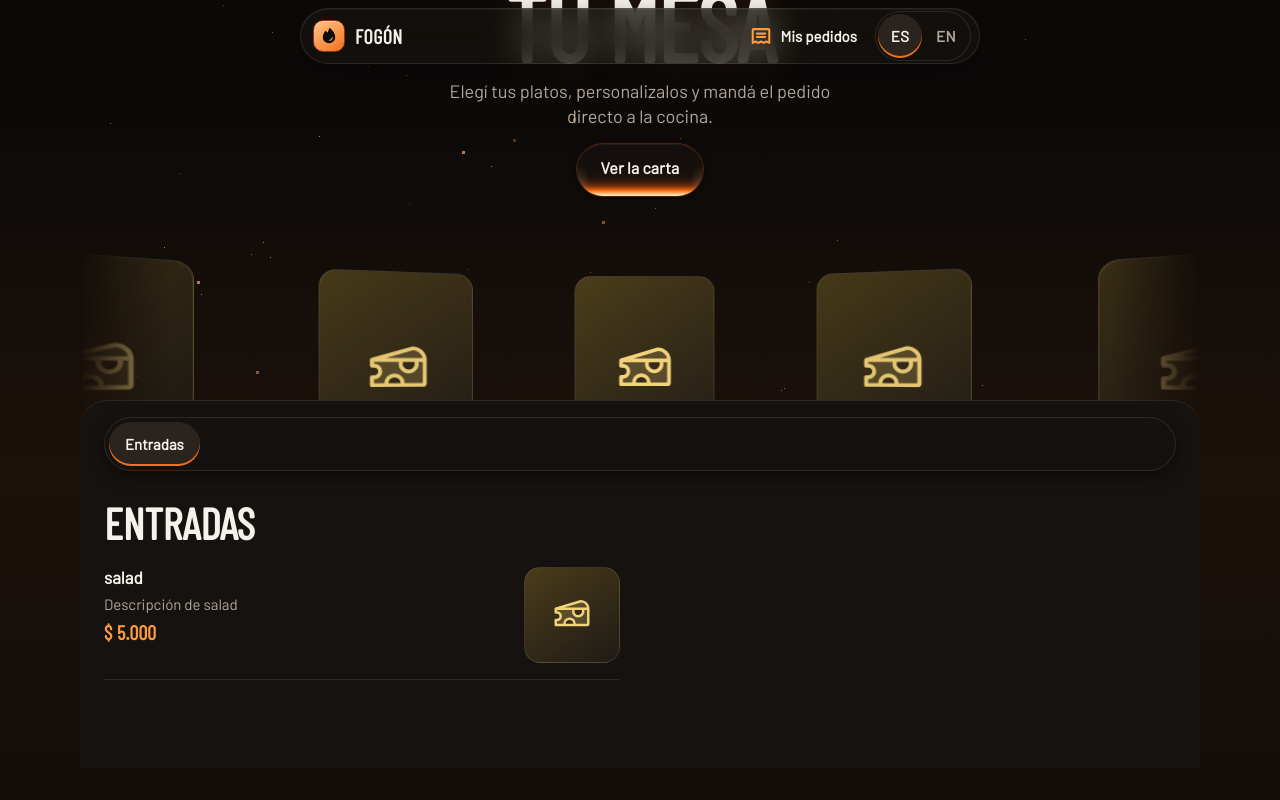
Scenario: CustomerApp: esqueleto de la app (RF1, RF2, RF3, RF4, RF32, RF41, RF42) › pedido en curso y envío (T8: RF21, RF23, RF25, RF26) › tras agregar muestra la barra con las unidades y el total, y se actualiza al agregar más; ya no hay línea provisoria
Click the button "salad Descripción de salad $ 5.000" at (123, 577), box x1=104 y1=551 x2=620 y2=679
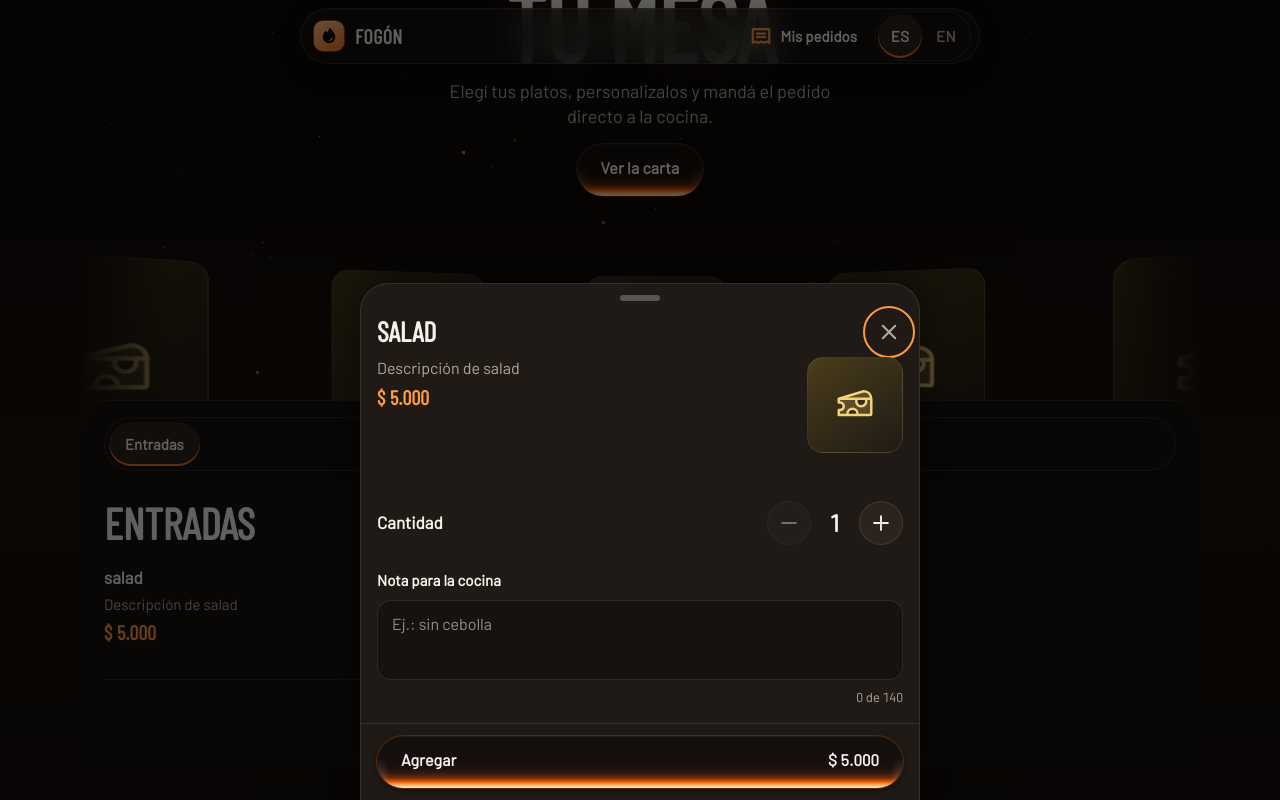
Click the button "Agregar $ 5.000" at (429, 760), box x1=377 y1=736 x2=903 y2=788
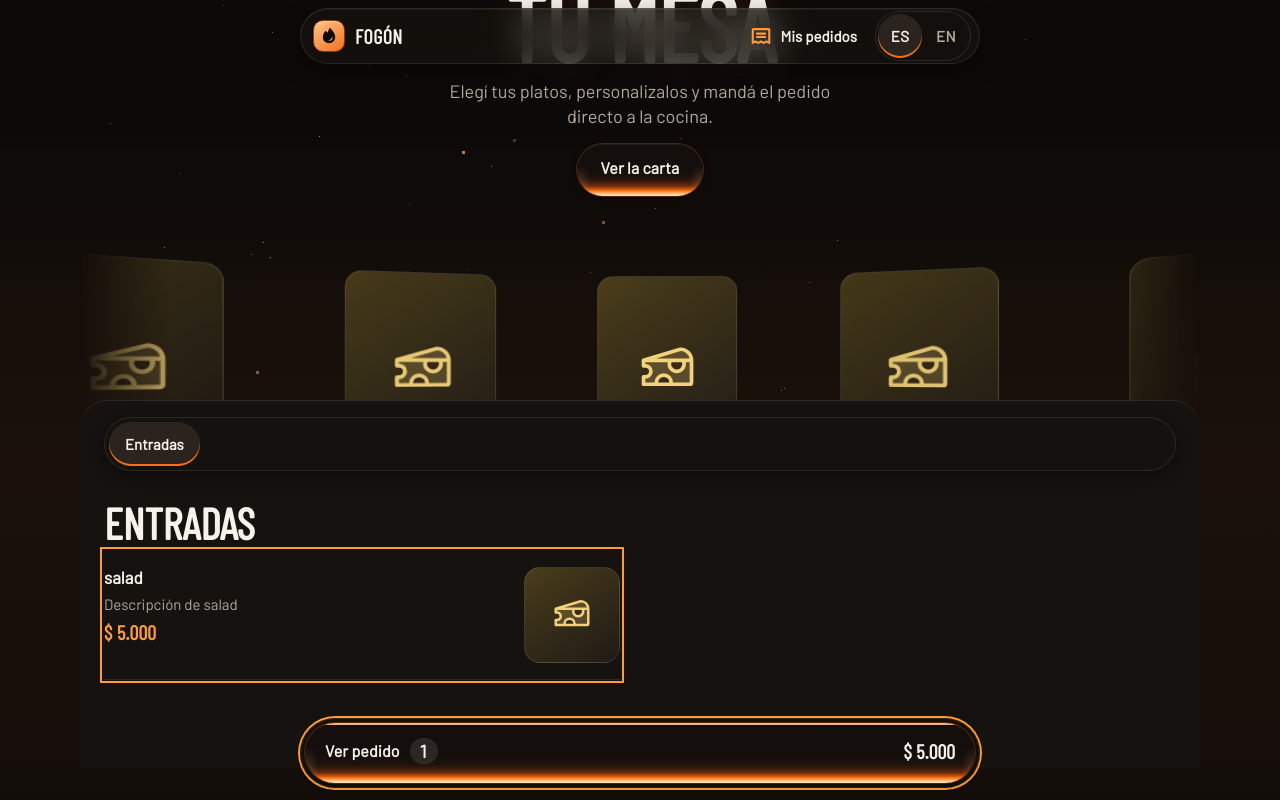
Result: the button "Ver pedido 1 $ 5.000" is shown at x1=305 y1=723 x2=975 y2=783
Result: the dialog is gone
Click the button "salad Descripción de salad $ 5.000" at (123, 577), box x1=104 y1=551 x2=620 y2=679
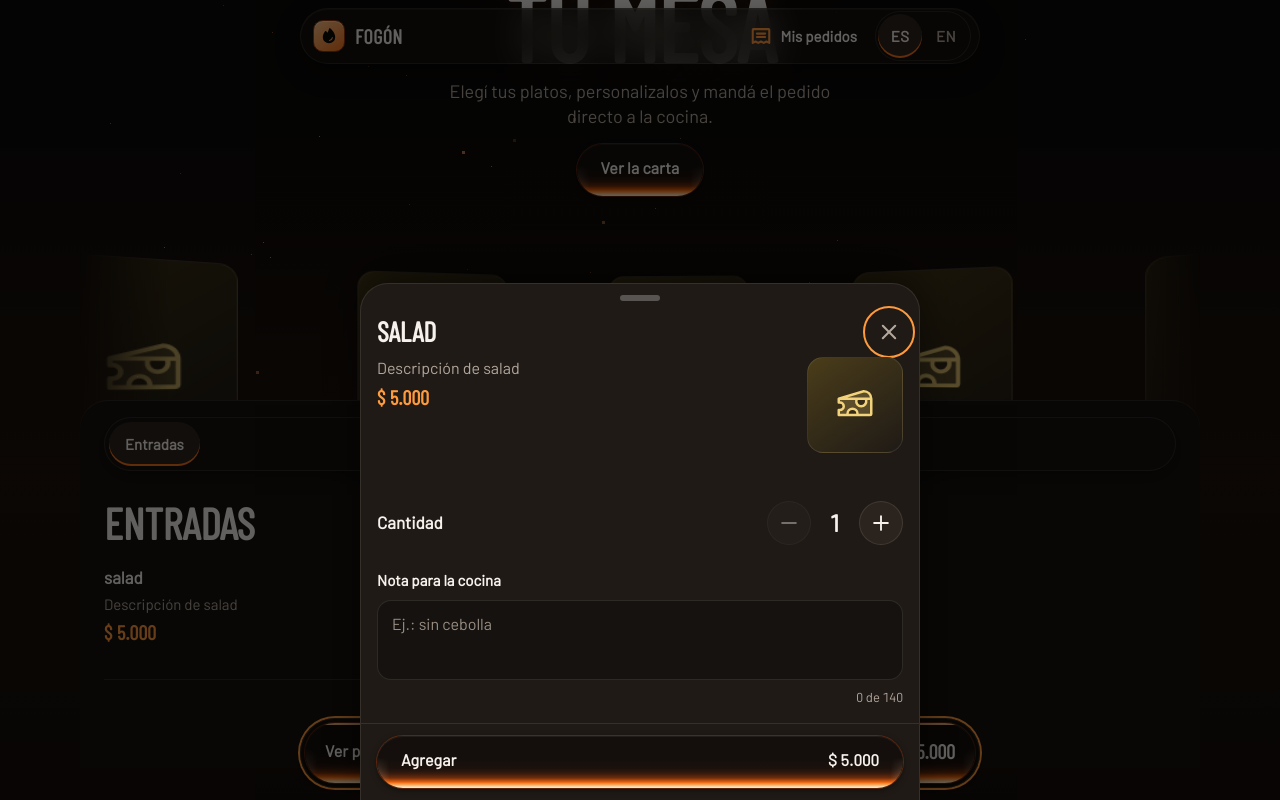
Click the button named "Aumentar cantidad" at (881, 523), box x1=859 y1=501 x2=903 y2=545
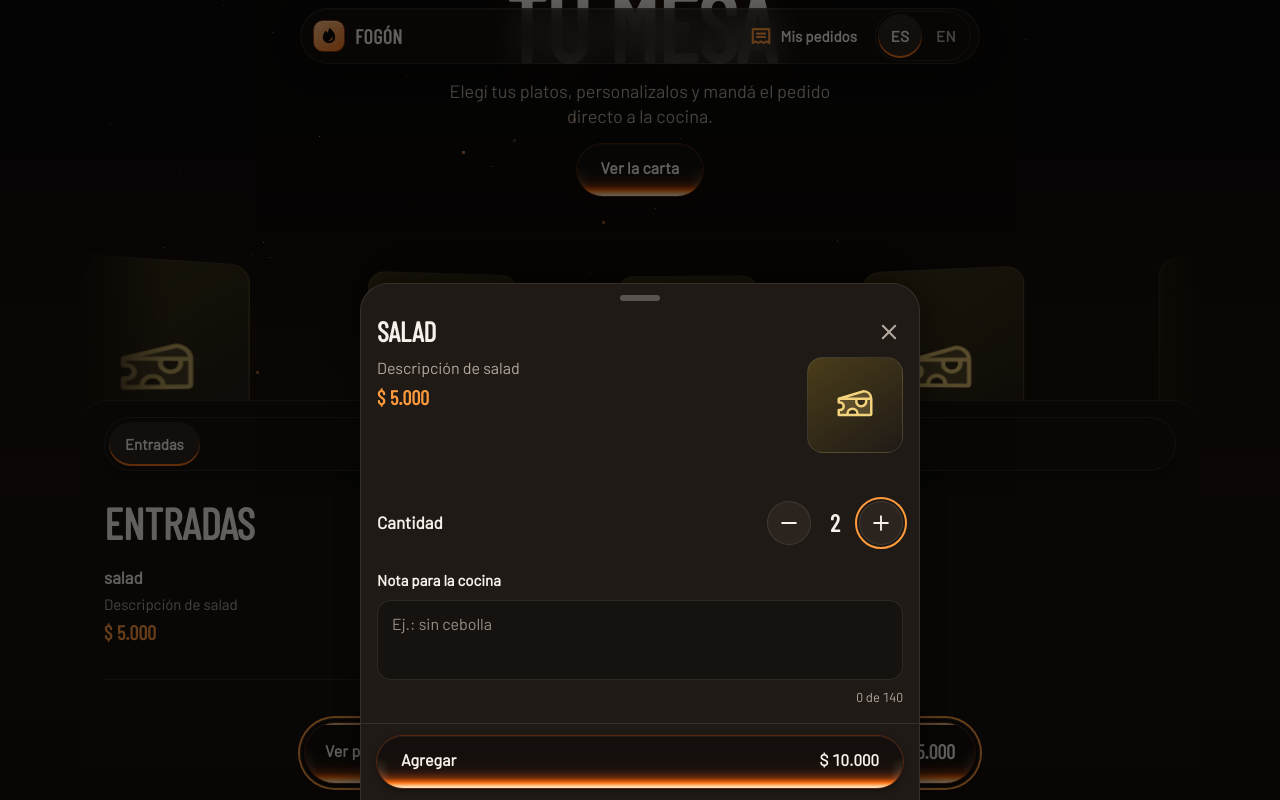
Click the button "Agregar $ 10.000" at (429, 760), box x1=377 y1=736 x2=903 y2=788
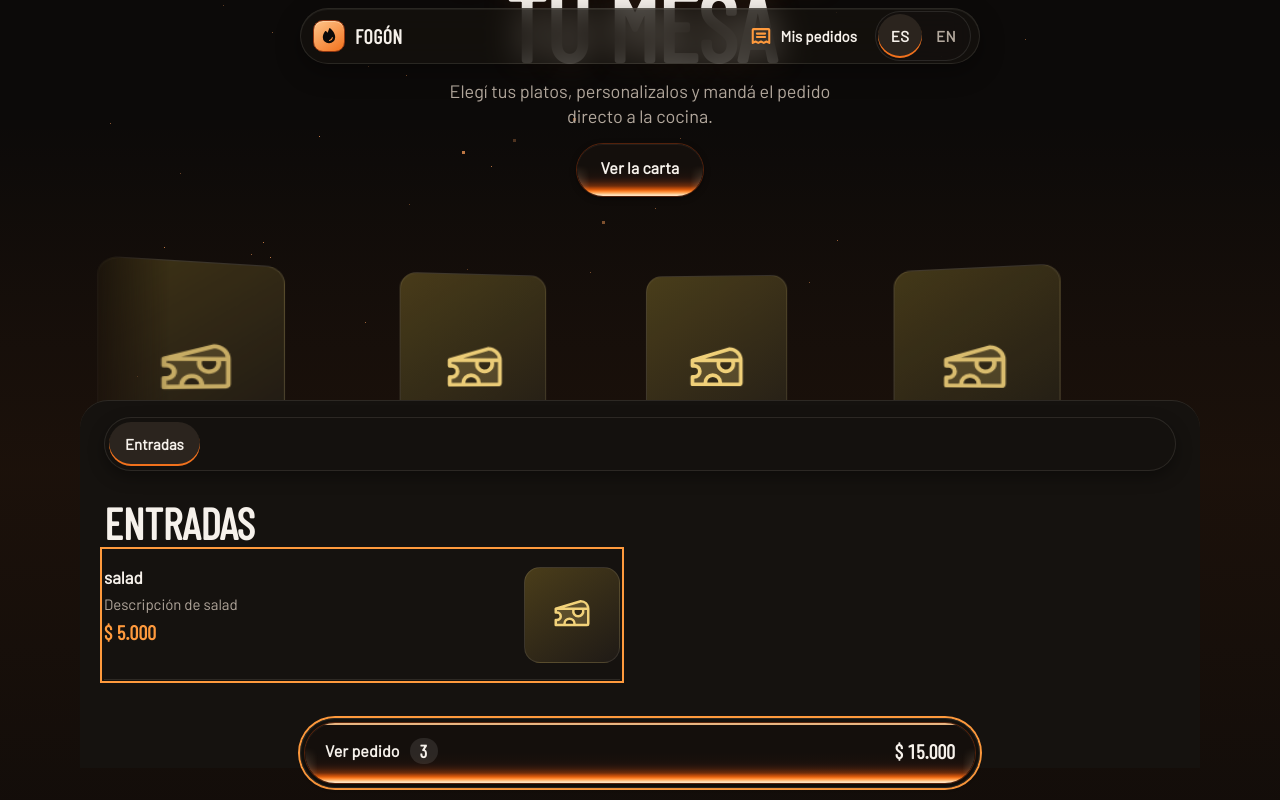
Result: the dialog is gone
